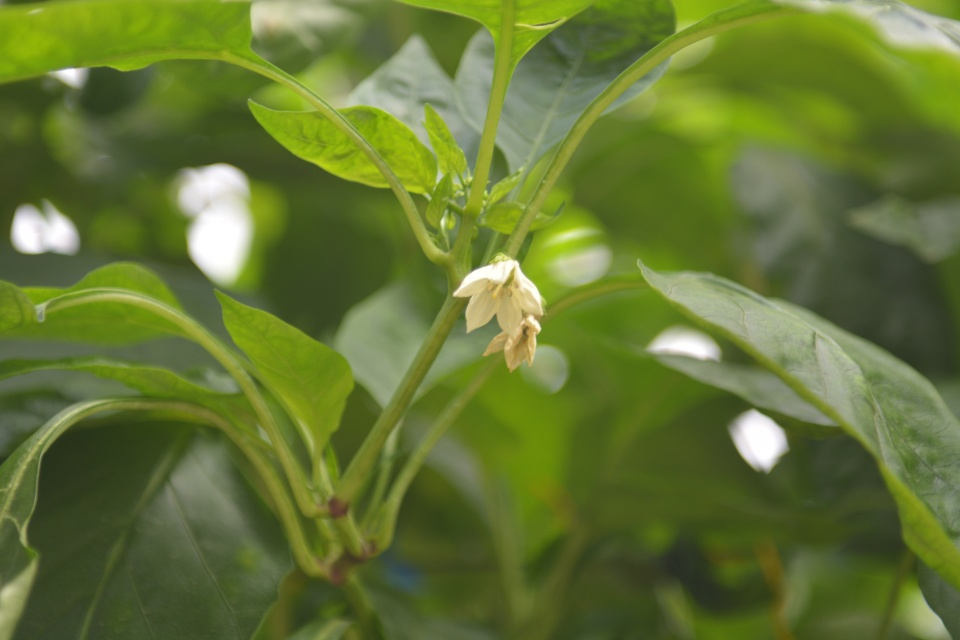flower: (451, 256, 547, 338)
